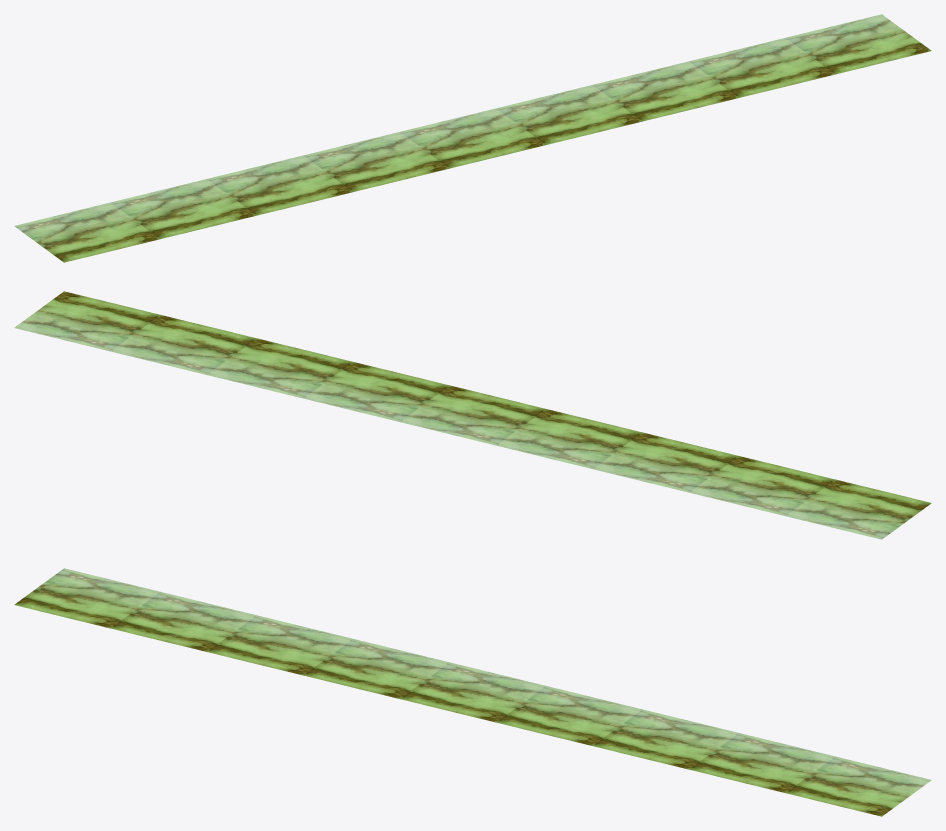
3 views of the same model, one above another, from view 1: azimuth 30°, elevation 25°; view 2: azimuth 150°, elevation 25°; view 3: azimuth 330°, elevation 25° (orthographic).
Visible parts, largest first — view 1: pPlane1; view 2: pPlane1; view 3: pPlane1.
Boxes of the visible parts, x1=… form: pPlane1: x1=14, y1=14, x2=931, y2=262; pPlane1: x1=14, y1=291, x2=931, y2=539; pPlane1: x1=14, y1=568, x2=931, y2=816.
Bounding box in the file's own units: 200 × 4.44e-15 × 20.
